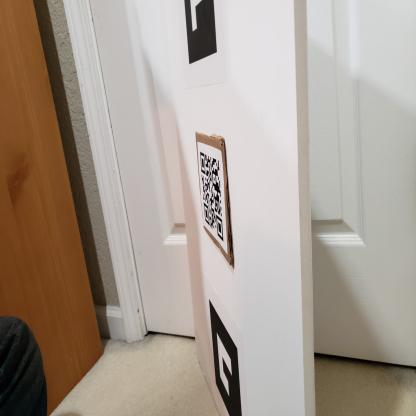qr: (199, 150, 227, 242)
